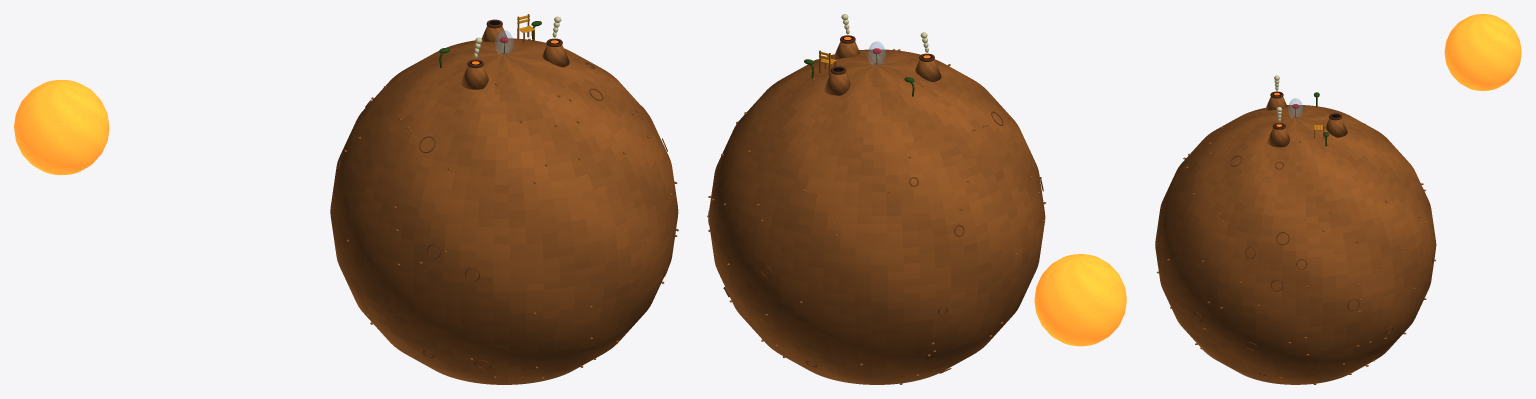
File: prince-b612.glb
The picture shows the model from 3 angles, left to right: view 1: azimuth 30°, elevation 25°; view 2: azimuth 150°, elevation 25°; view 3: azimuth 270°, elevation 25°; orthographic projection. The views are drawn at different scales.
Parts seen in each view (by area): view 1: B612 continuous spherical ground, Distant setting sun; view 2: B612 continuous spherical ground, Distant setting sun, Ancient shallow meteor crater, Crystal rose globe; view 3: B612 continuous spherical ground, Distant setting sun, Ancient shallow meteor crater.
Part boxes in pixels (bbox=[...]): B612 continuous spherical ground: bbox=[330, 14, 678, 384]; Distant setting sun: bbox=[14, 80, 109, 175]; B612 continuous spherical ground: bbox=[707, 41, 1045, 384]; Distant setting sun: bbox=[1034, 254, 1126, 346]; Ancient shallow meteor crater: bbox=[708, 50, 1043, 373]; Crystal rose globe: bbox=[868, 41, 885, 66]; B612 continuous spherical ground: bbox=[1155, 96, 1436, 384]; Distant setting sun: bbox=[1444, 14, 1521, 90]; Ancient shallow meteor crater: bbox=[1194, 156, 1434, 375].
Size of the model in its own units: 20.65 by 13.29 by 15.65.
14 materials, 14 textured.
